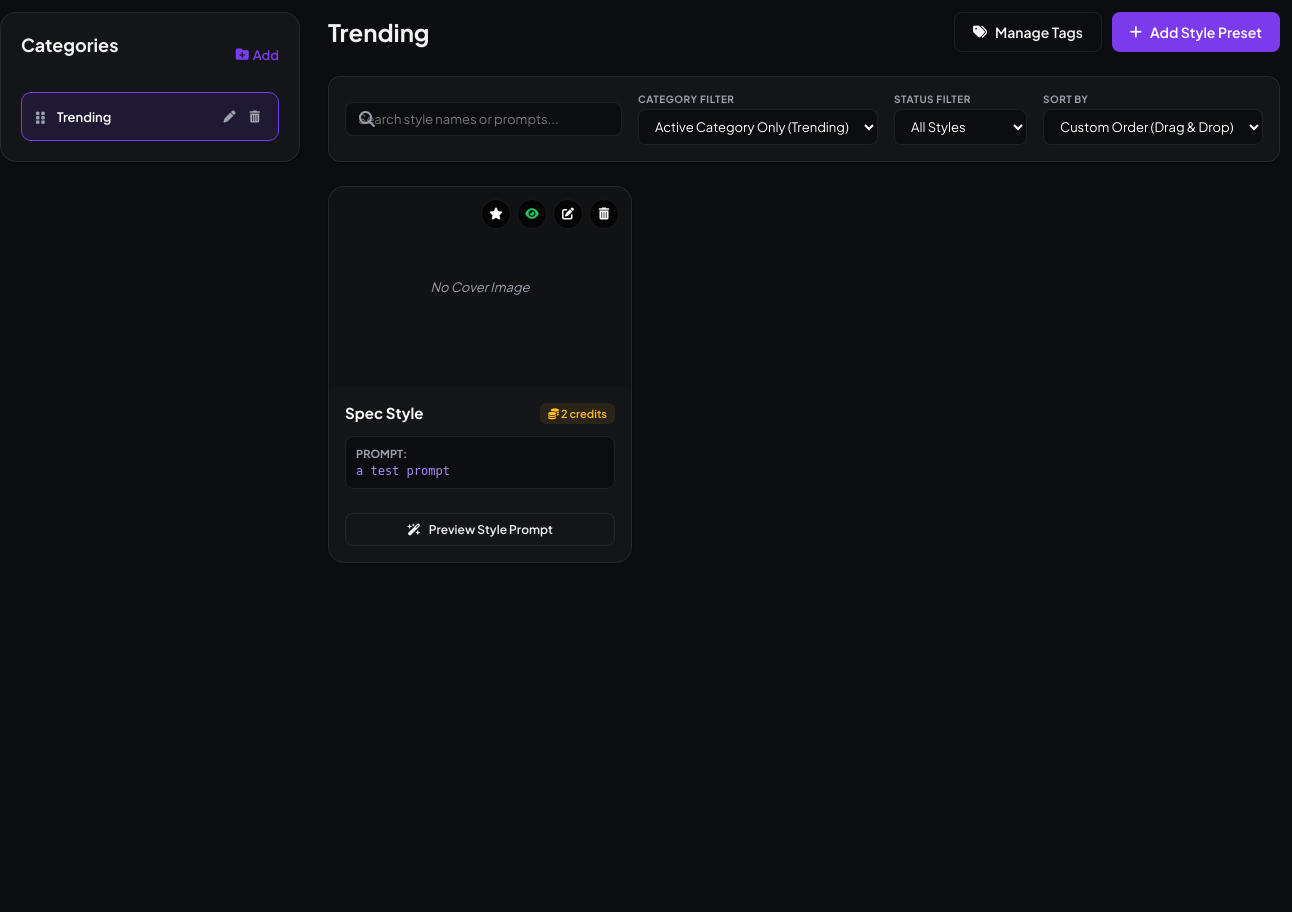
Test case: StyleManagerPage - quick toggle actions (Trending / Enable-Disable) › toggles trending via PATCH, shows the badge and a success toast
Expected: the heading "Spec Style" is shown, [345,403,423,422]
Click the button titled "Mark as Trending": (496, 214) [481,199,511,229]
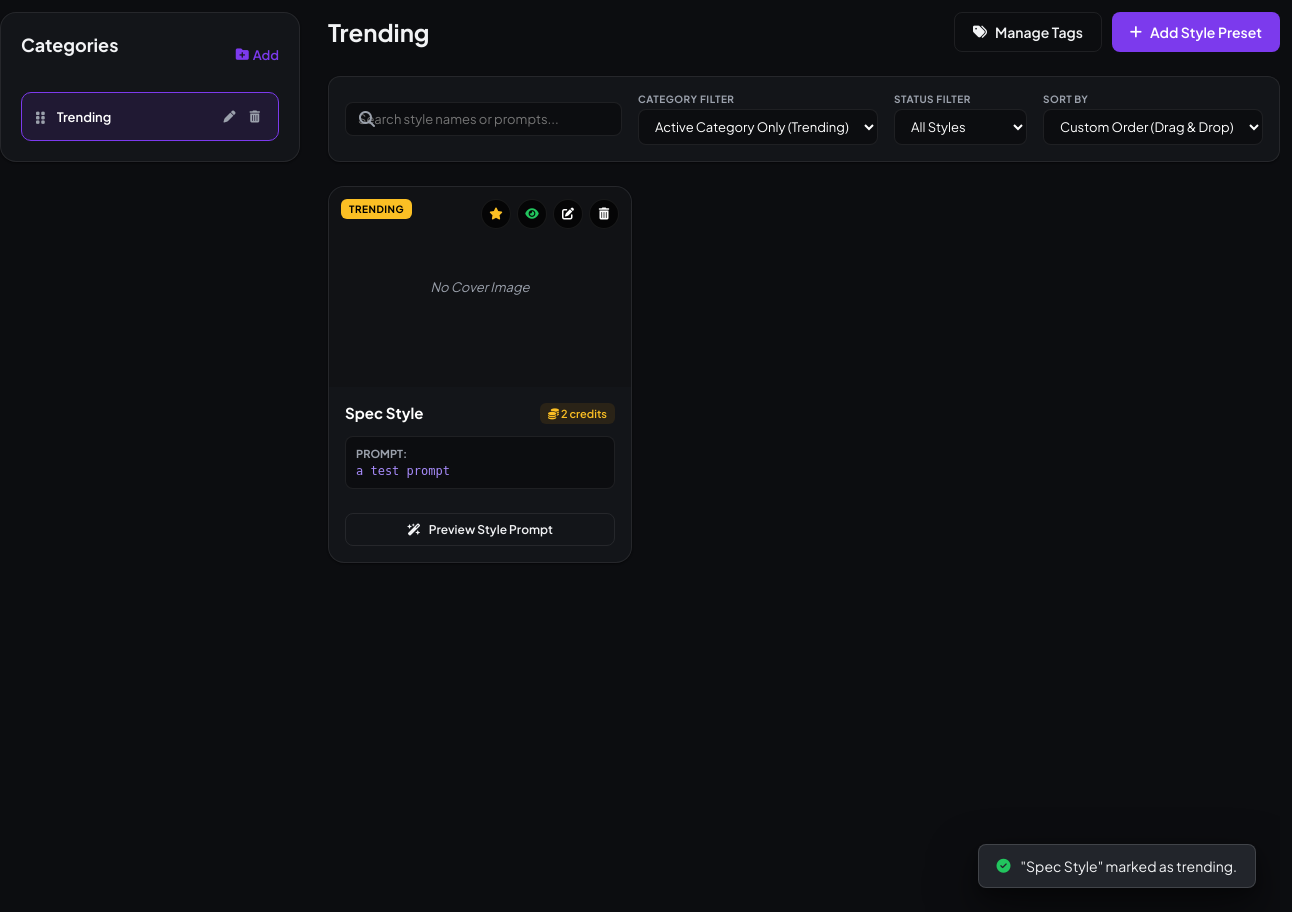
Expected: the text "Trending" below "Category Filter" is shown, [349,203,404,215]
Expected: the text "\"Spec Style\" marked as trending." is shown, [1020,857,1237,875]
